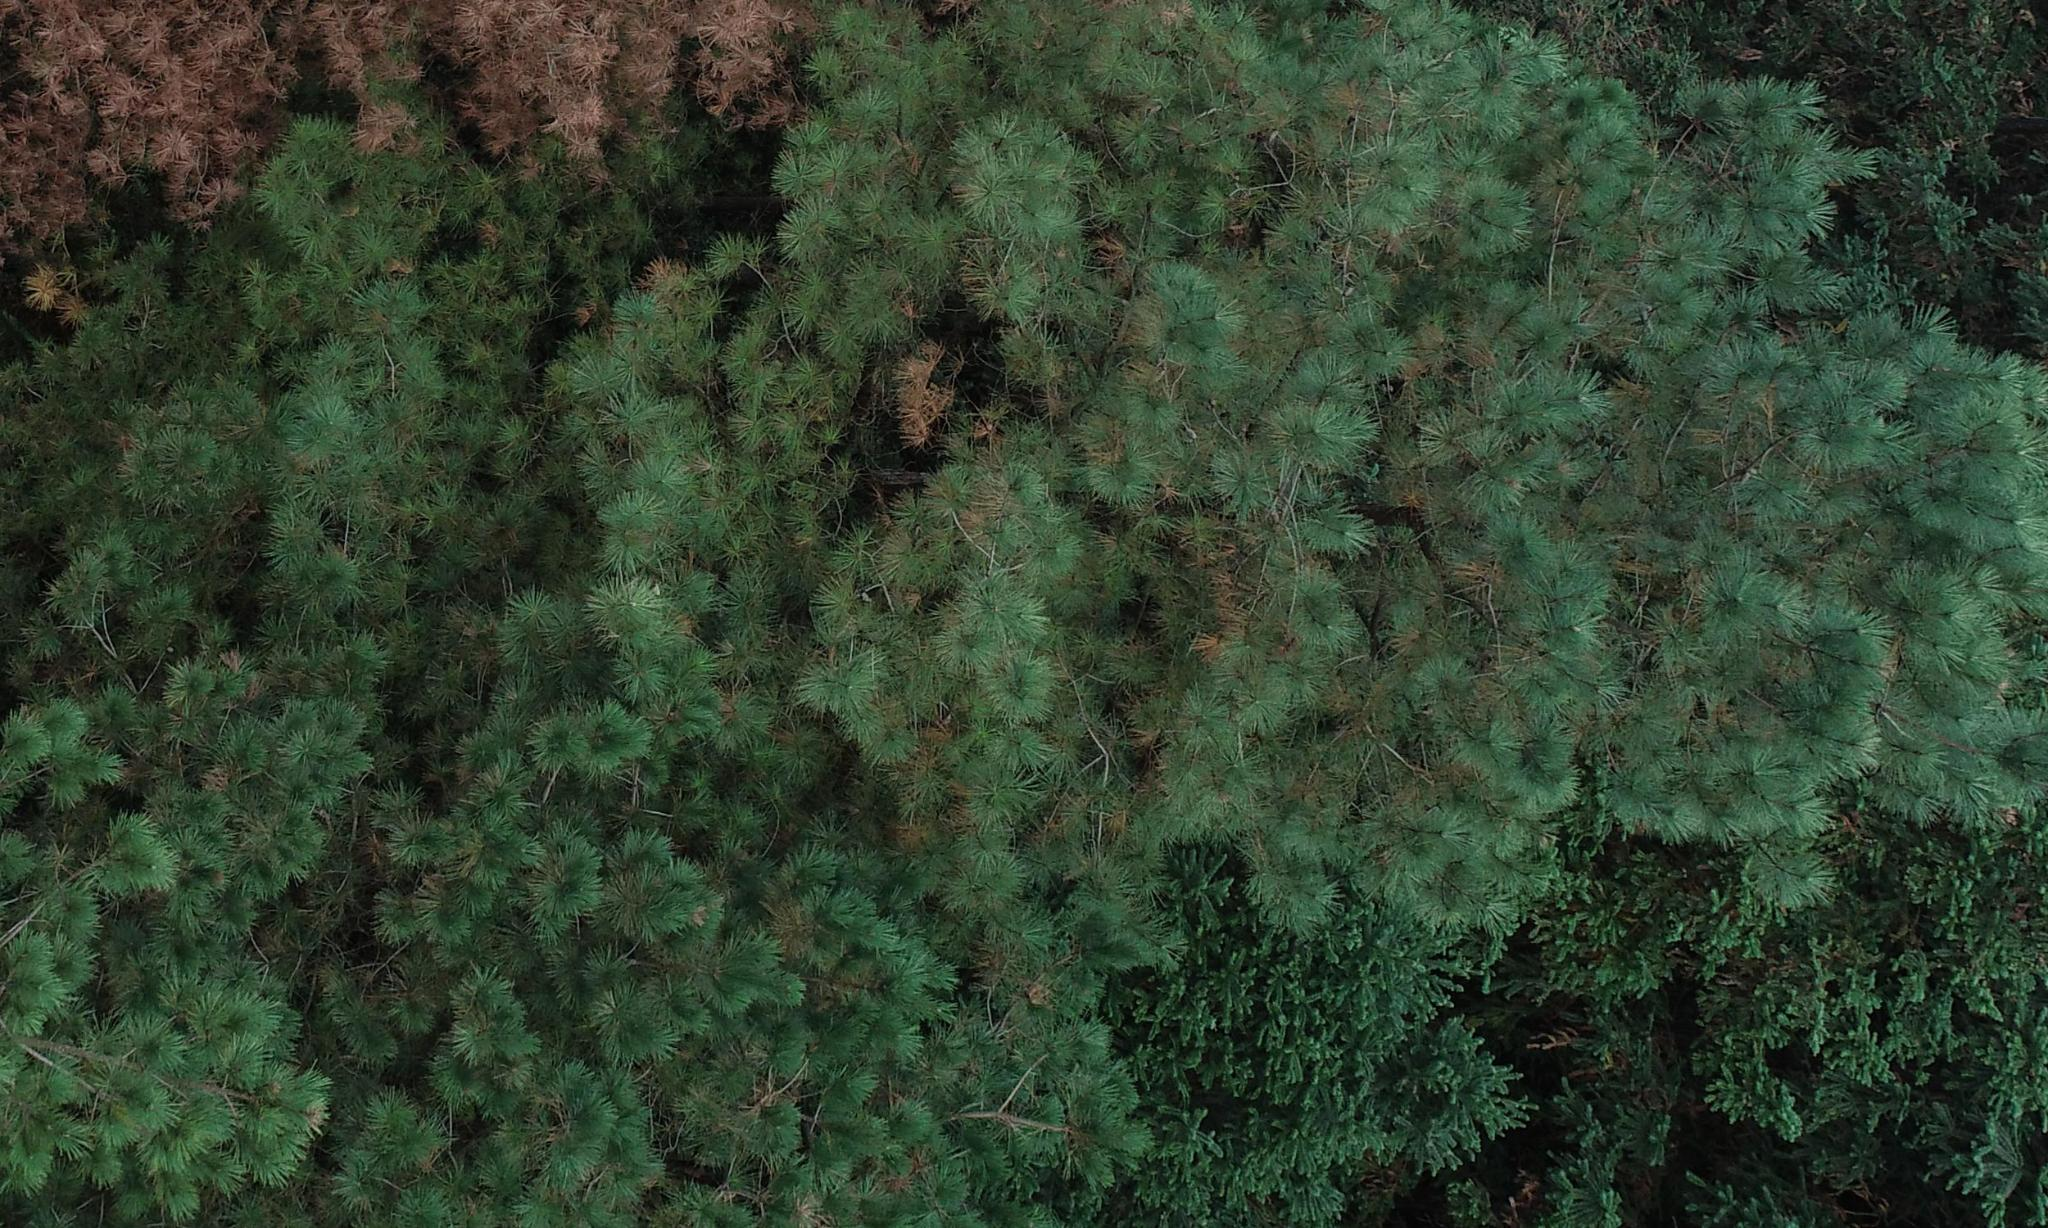light: (1, 3, 930, 234)
